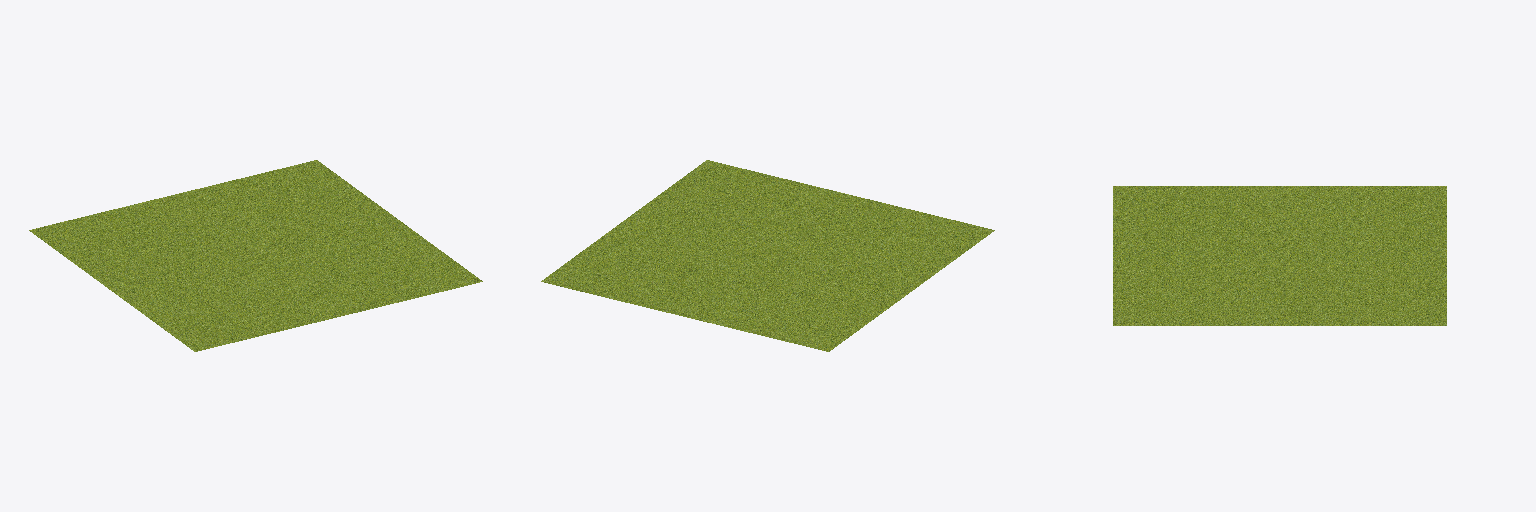
The picture shows the model from 3 angles: view 1: azimuth 30°, elevation 25°; view 2: azimuth 150°, elevation 25°; view 3: azimuth 270°, elevation 25°; orthographic projection.
Visible parts, largest first — view 1: pPlane1; view 2: pPlane1; view 3: pPlane1.
Part boxes in pixels (x1,y1,x2,y2): pPlane1: (29,160,482,351); pPlane1: (541,160,994,351); pPlane1: (1113,186,1446,325).
Bounding box in the file's own units: 100 × 0 × 100.
Materials: 1 (1 with a texture image).